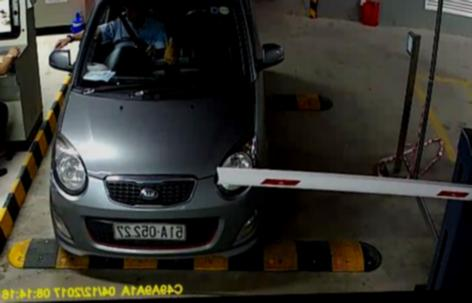License_Plate: (113, 221, 188, 241)
